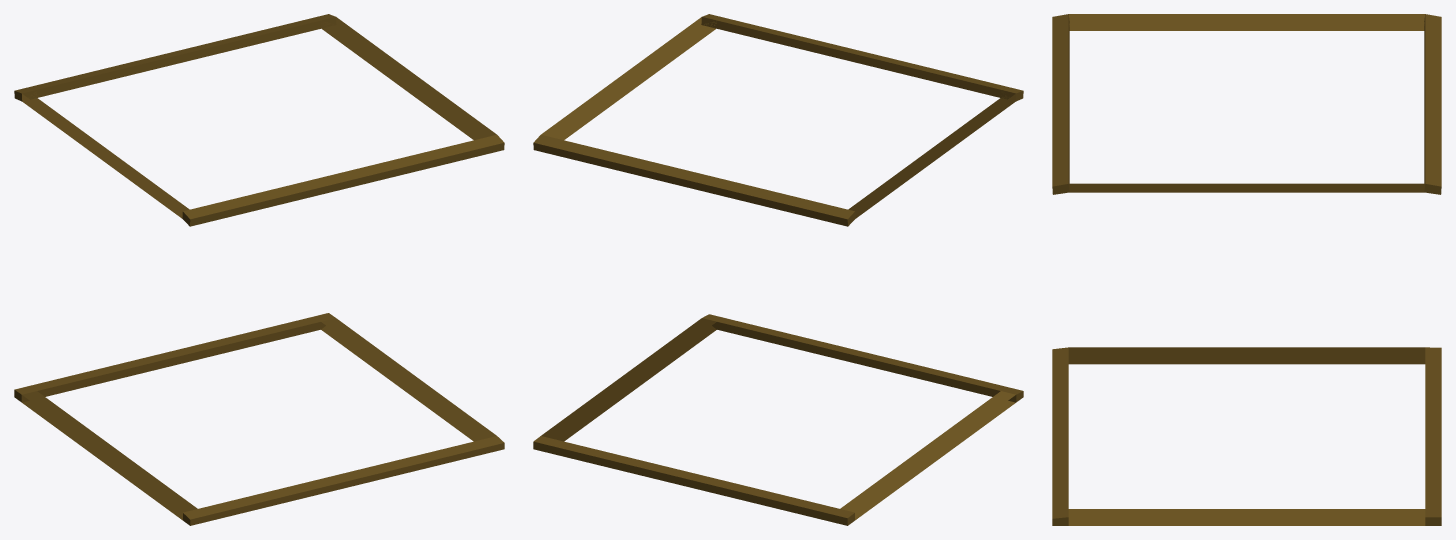
The model's file is frame_mid_small.glb.
3 renders of one model, left to right at view 1: azimuth 30°, elevation 25°; view 2: azimuth 150°, elevation 25°; view 3: azimuth 270°, elevation 25°, orthographic. The views are drawn at different scales.
Parts seen in each view (by area): view 1: frame_mid_small; view 2: frame_mid_small; view 3: frame_mid_small.
Part boxes in pixels (x1,y1,x2,y2): frame_mid_small: (14,14,504,525); frame_mid_small: (533,14,1023,525); frame_mid_small: (1052,14,1441,525).
Bounding box in the file's own units: 2.06 × 1.94 × 2.
